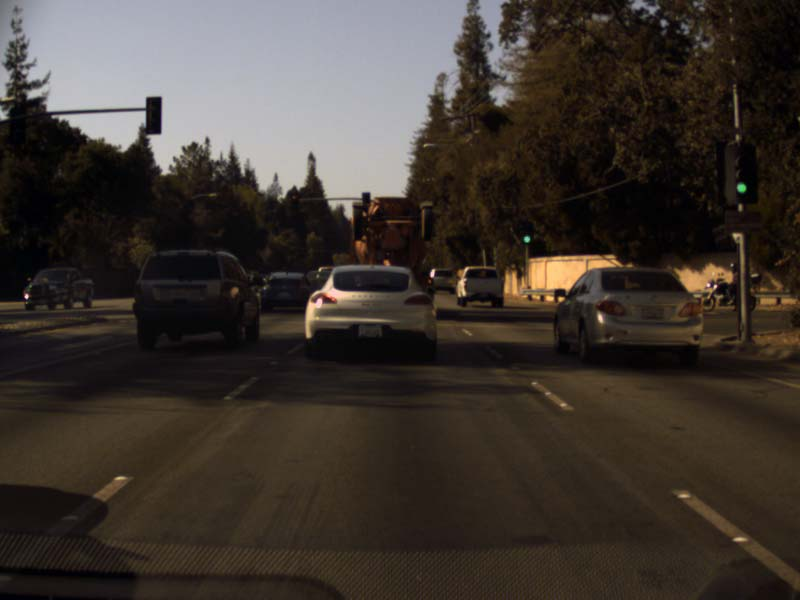Green: (732, 141, 749, 202), (521, 222, 531, 244)
Red: (290, 192, 298, 209)
